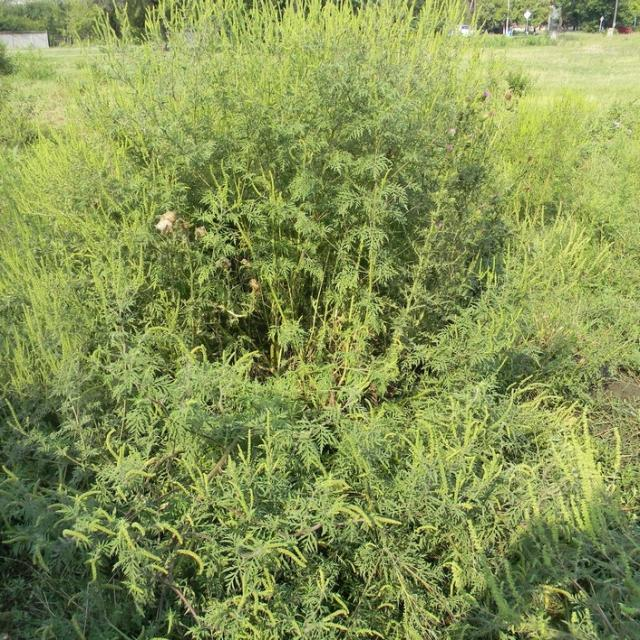ambrosia: (66, 203, 571, 632), (94, 0, 516, 235), (518, 76, 638, 194), (564, 417, 640, 556), (8, 119, 85, 192)
